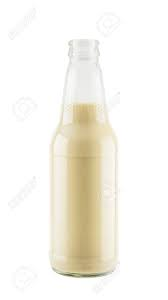milk: (41, 24, 127, 279)
